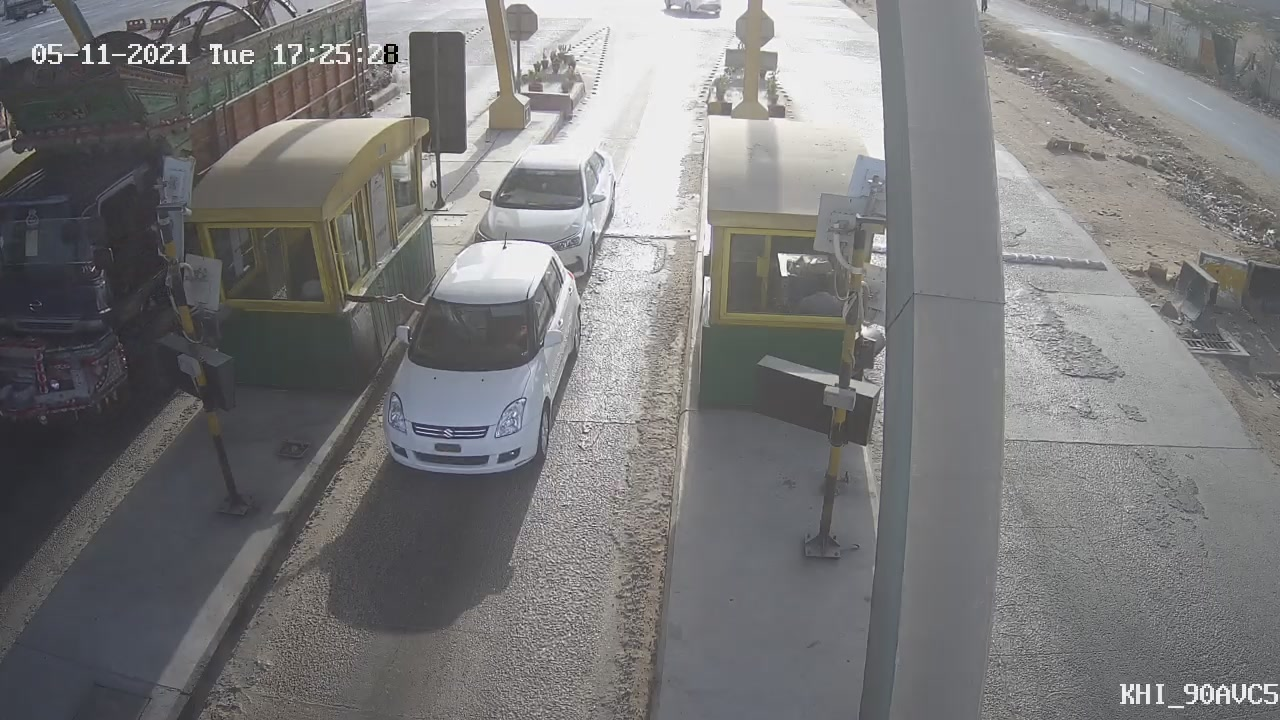F1: (365, 221, 601, 507), (457, 130, 633, 301)
